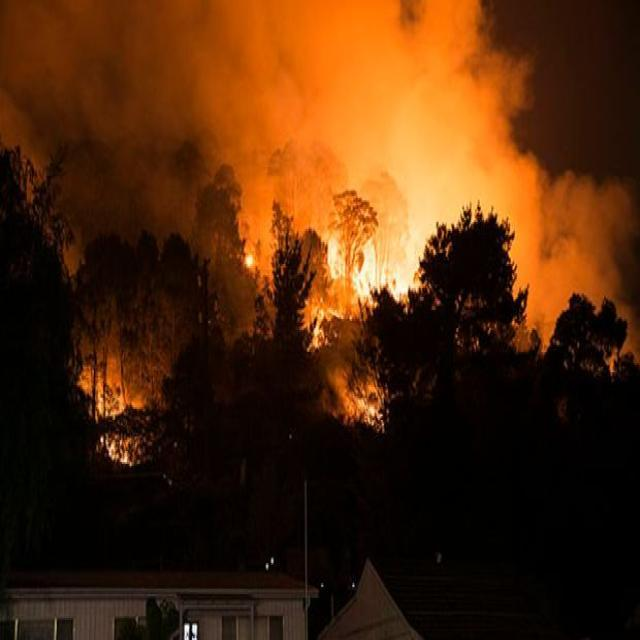Smoke: (0, 0, 639, 370)
